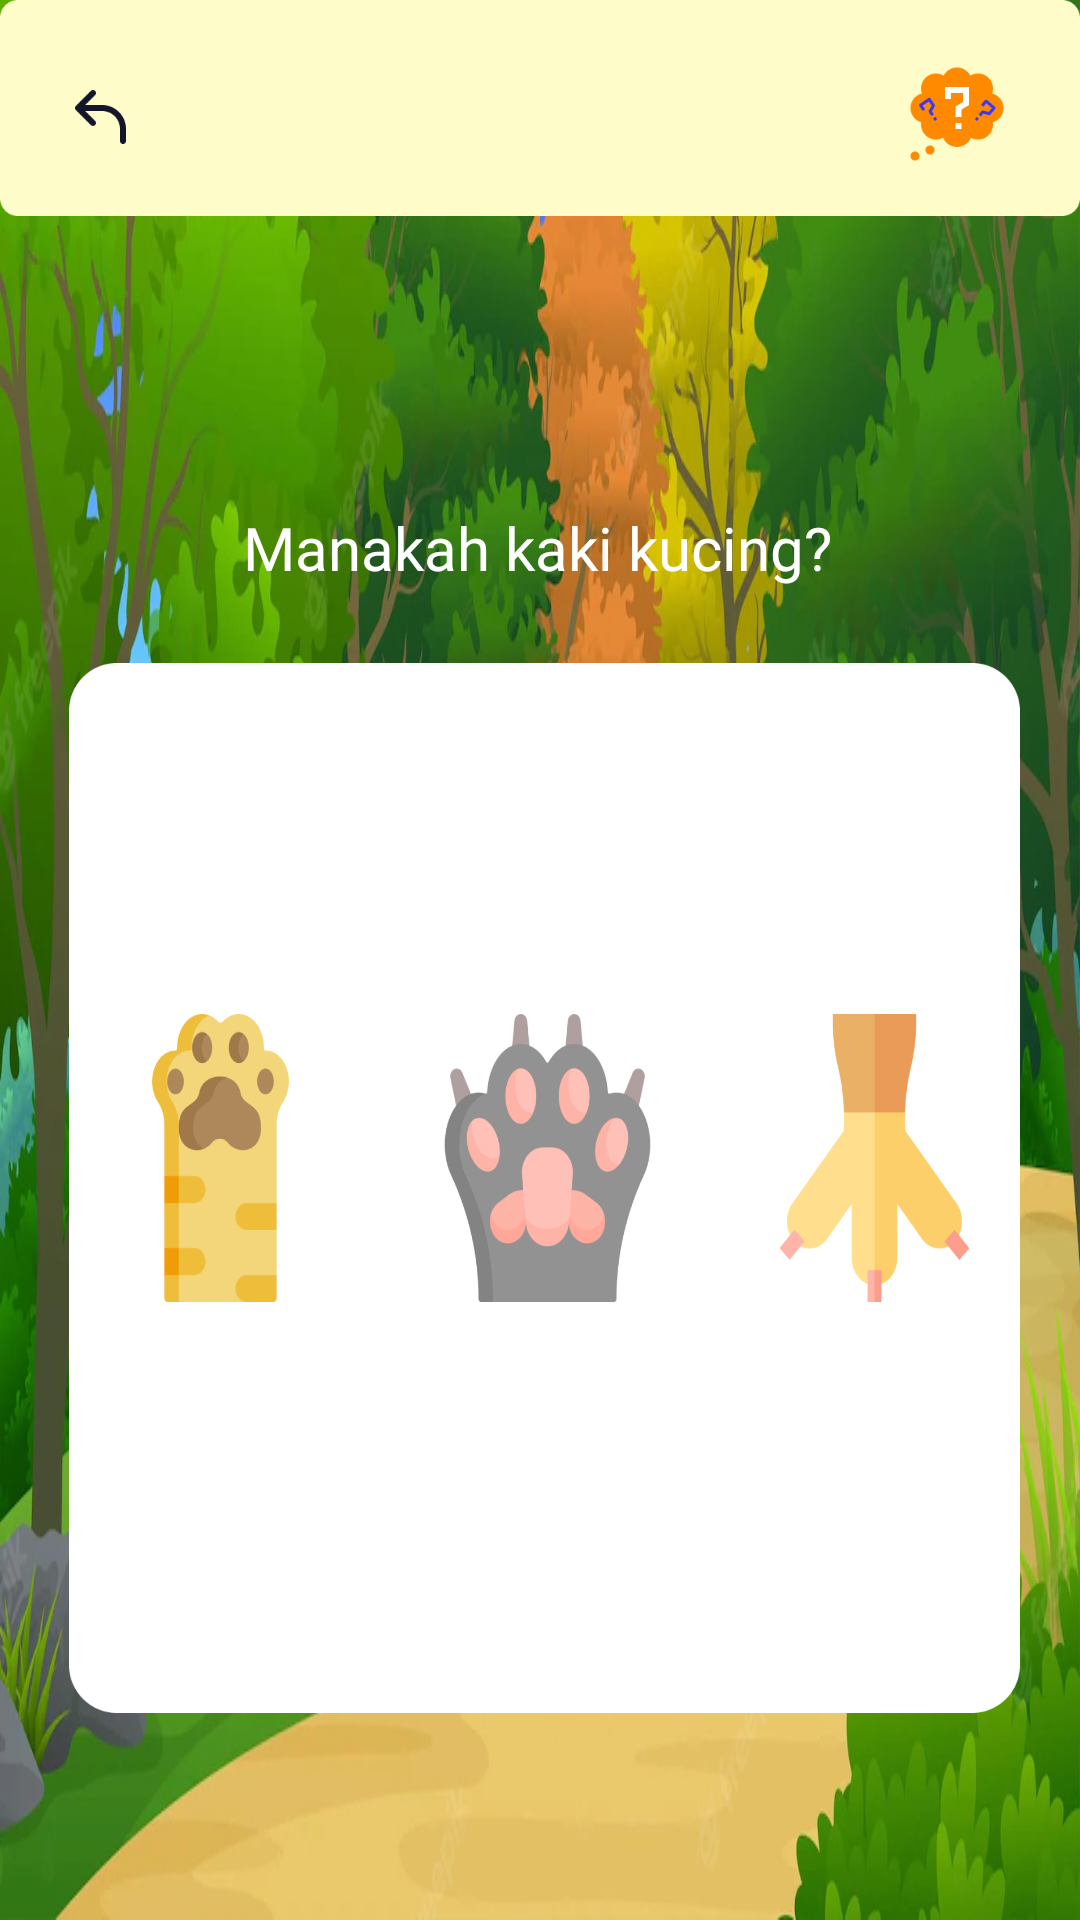

Screen size 1080x1920. Icon name, then its box in pixels as (x1, y1, x2, y2):
back: (75, 90, 126, 144)
chicken: (780, 1014, 969, 1302)
help: (910, 67, 1004, 161)
kakianjing: (444, 1014, 651, 1302)
kakikucing: (152, 1014, 289, 1302)
